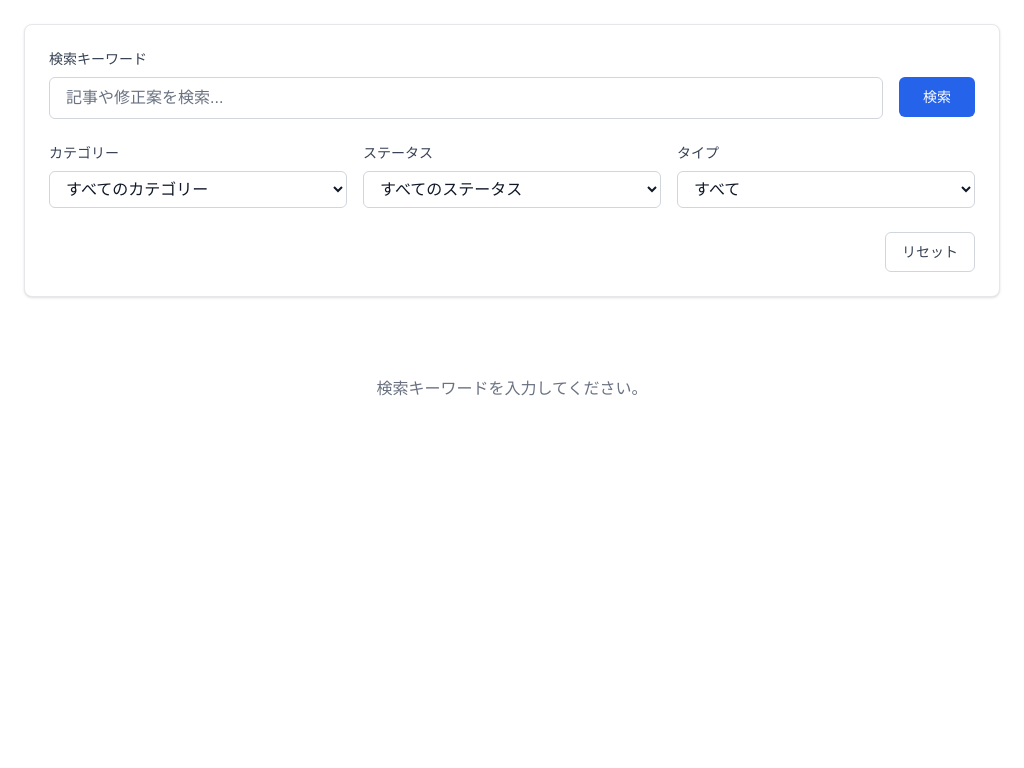
it: SearchAndFilter › performs search when form is submitted
Step 1. Type "テスト" into the search field labelled "検索キーワード" → (466, 98), box [49, 77, 883, 119]
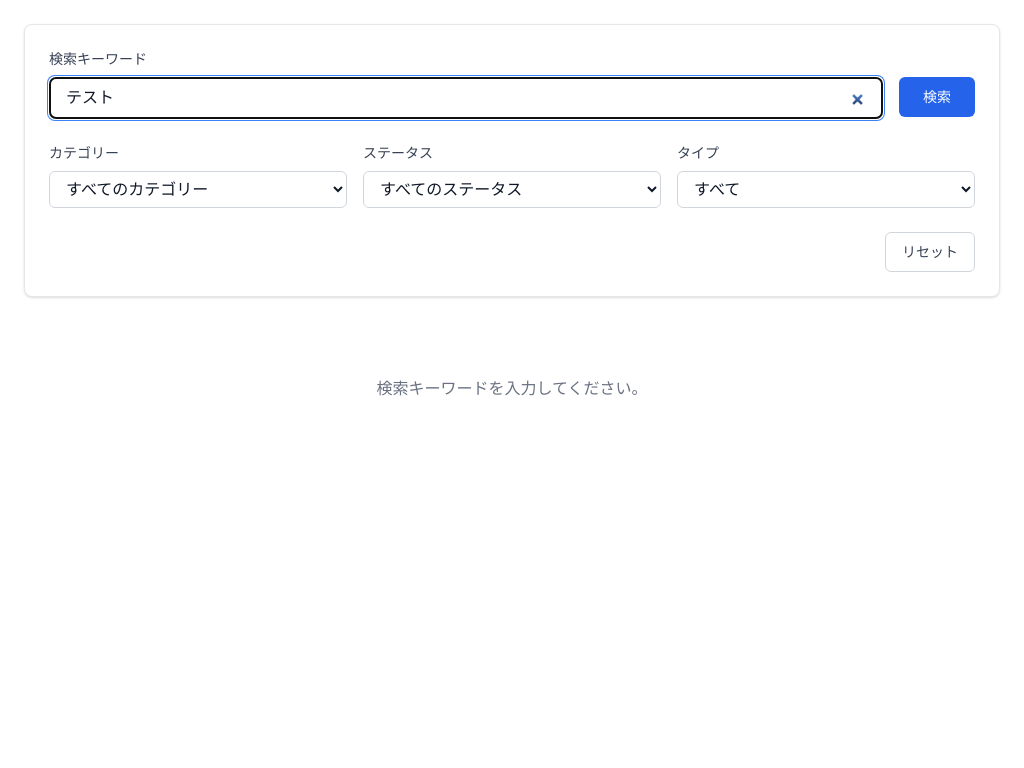
Step 2. Click the button "検索" → (937, 97), box [899, 77, 975, 117]
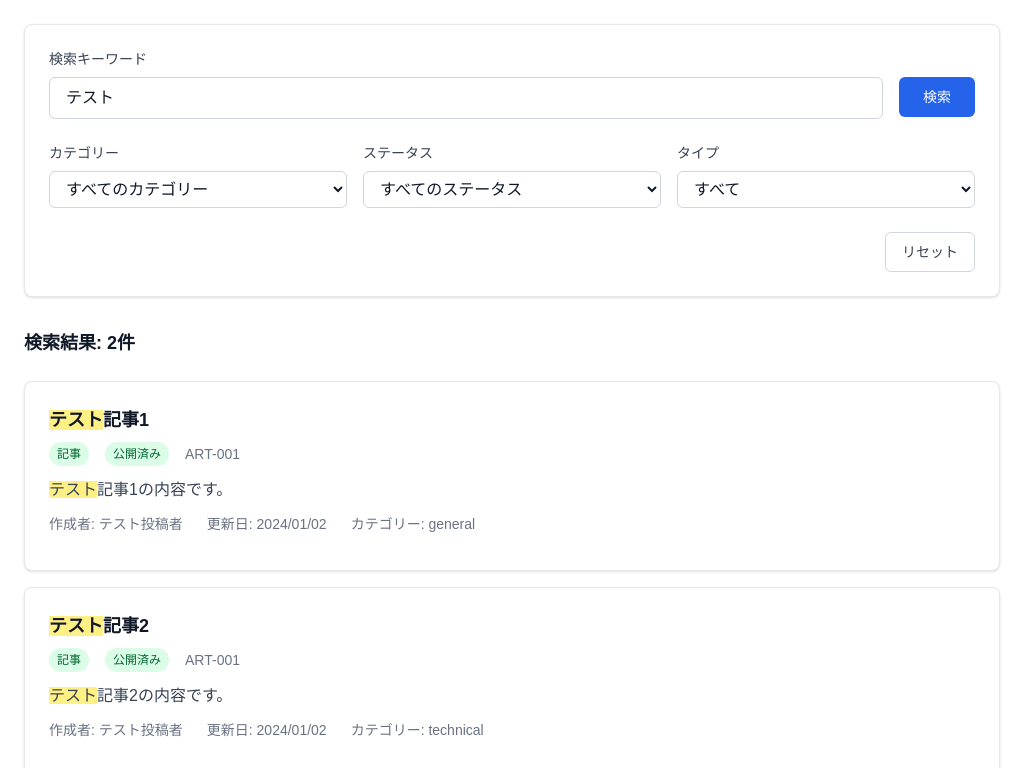
Now the heading "検索結果: 2件" is shown, box [24, 333, 135, 353]
